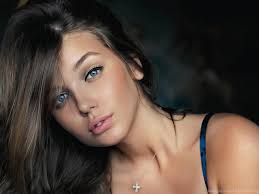no_mask: (33, 15, 155, 153)
